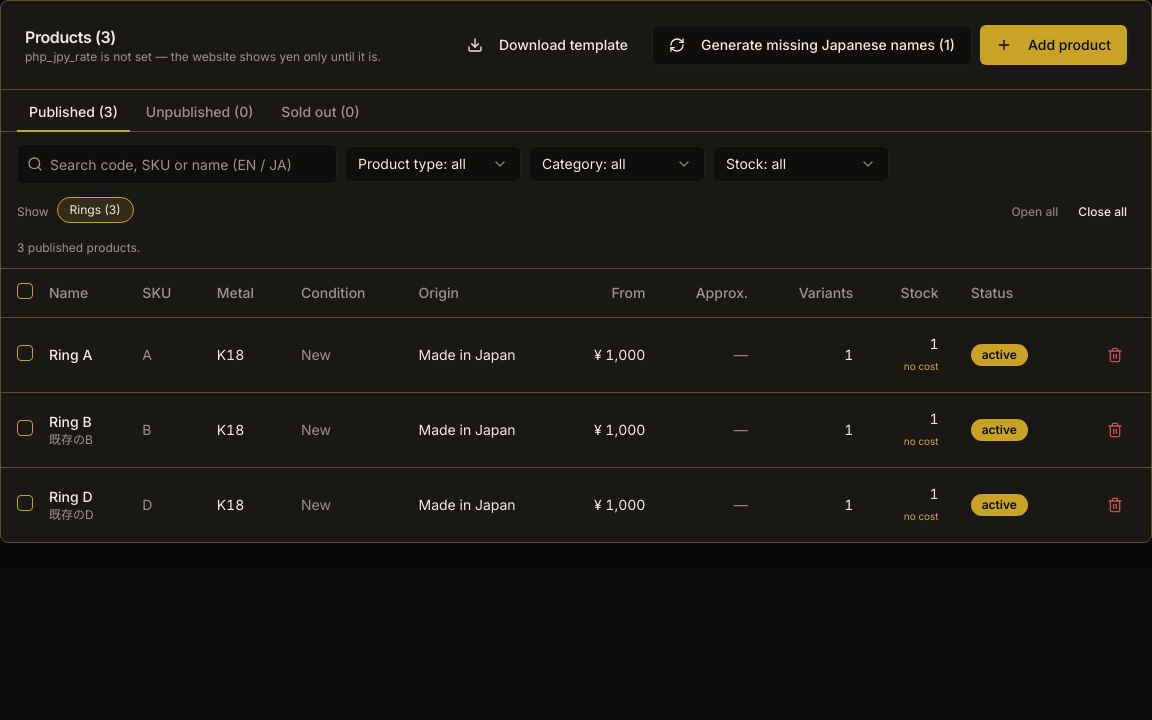
Test: a newer Japanese value is never silently overwritten › description: refused when the stored text changed; the typed text stays in the box
The width and height of the screenshot is (1152, 720).
Click the text "Ring D" at [80, 504], box [33,467,126,542]
(page scrolled)
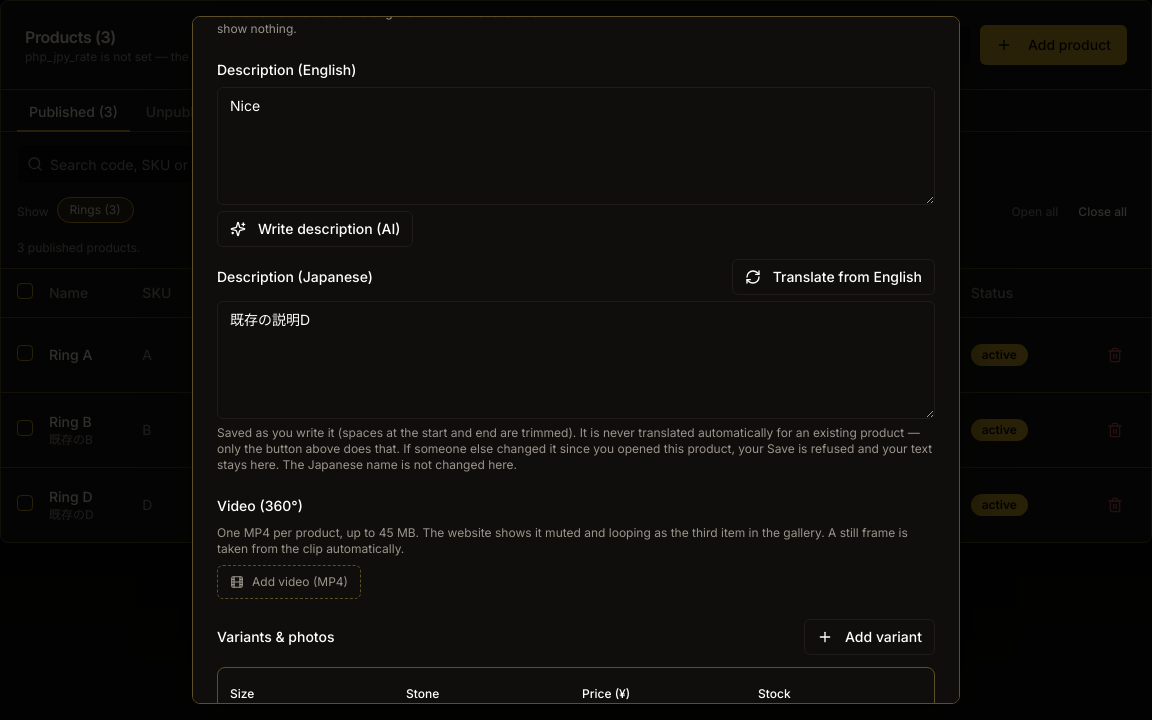
Replace the text in the text box labelled "Description (Japanese)" with "私の新しい説明" at [576, 360], box [217,300,935,418]
(page scrolled)
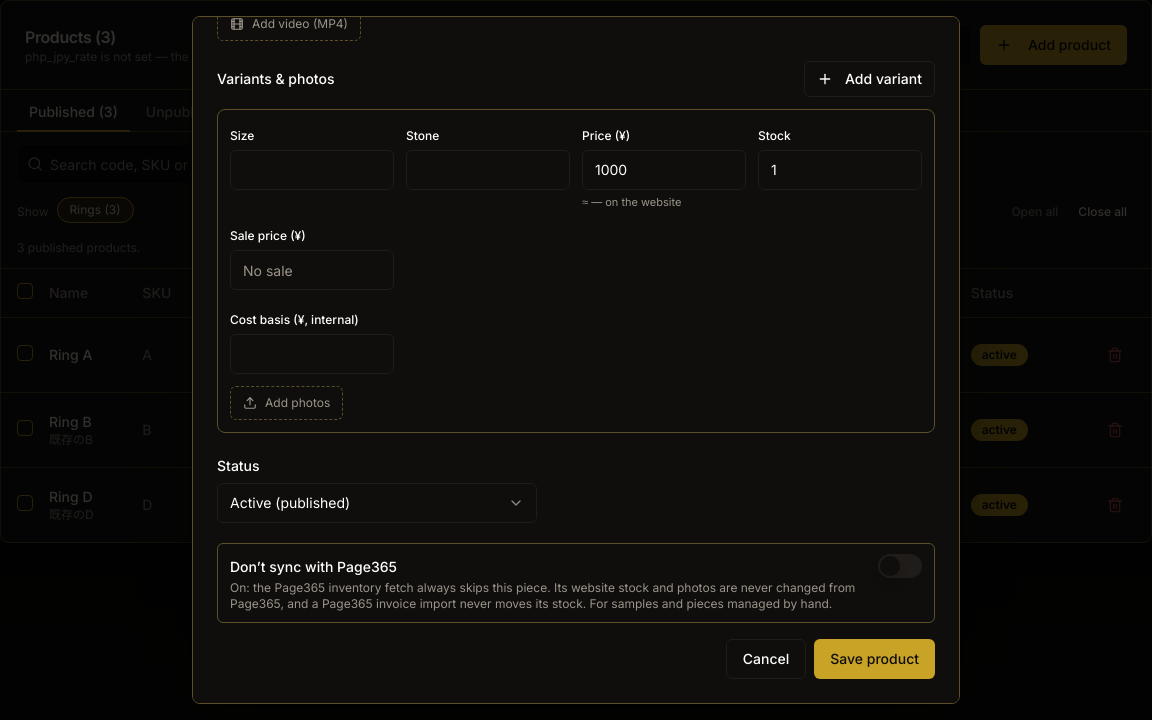
Click the button "Save product" at [875, 659], box [814,639,935,679]
(page scrolled)
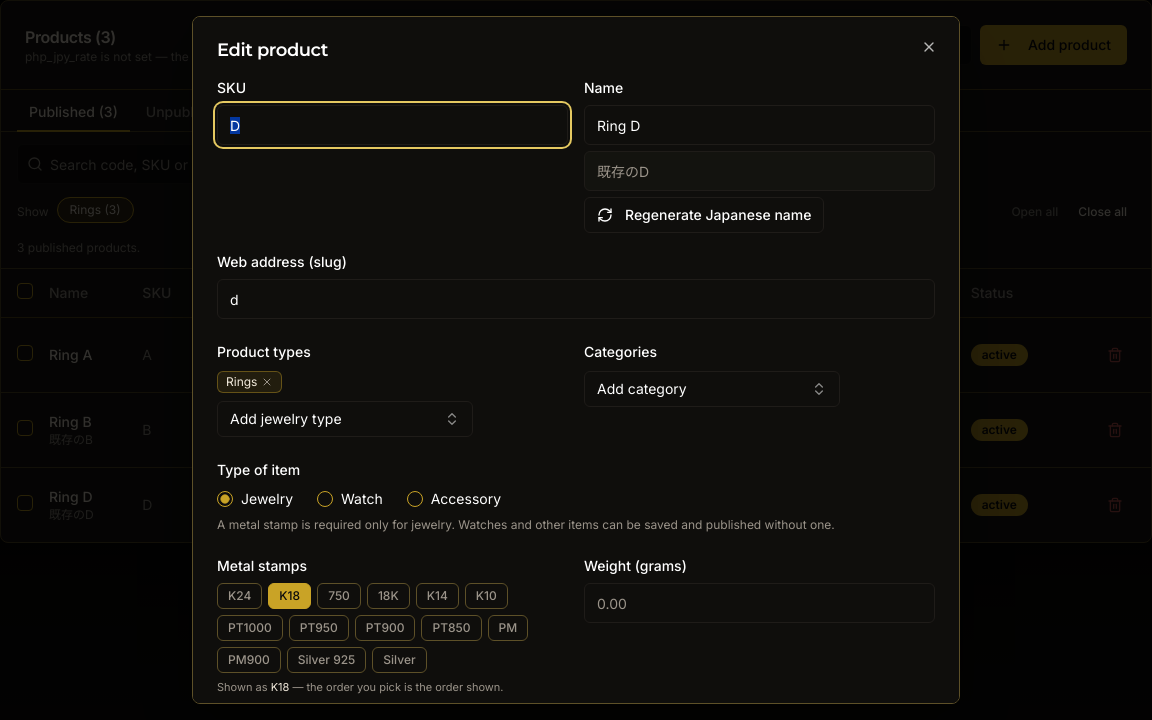
Result: the heading "Edit product" is shown at [217,39,328,61]
